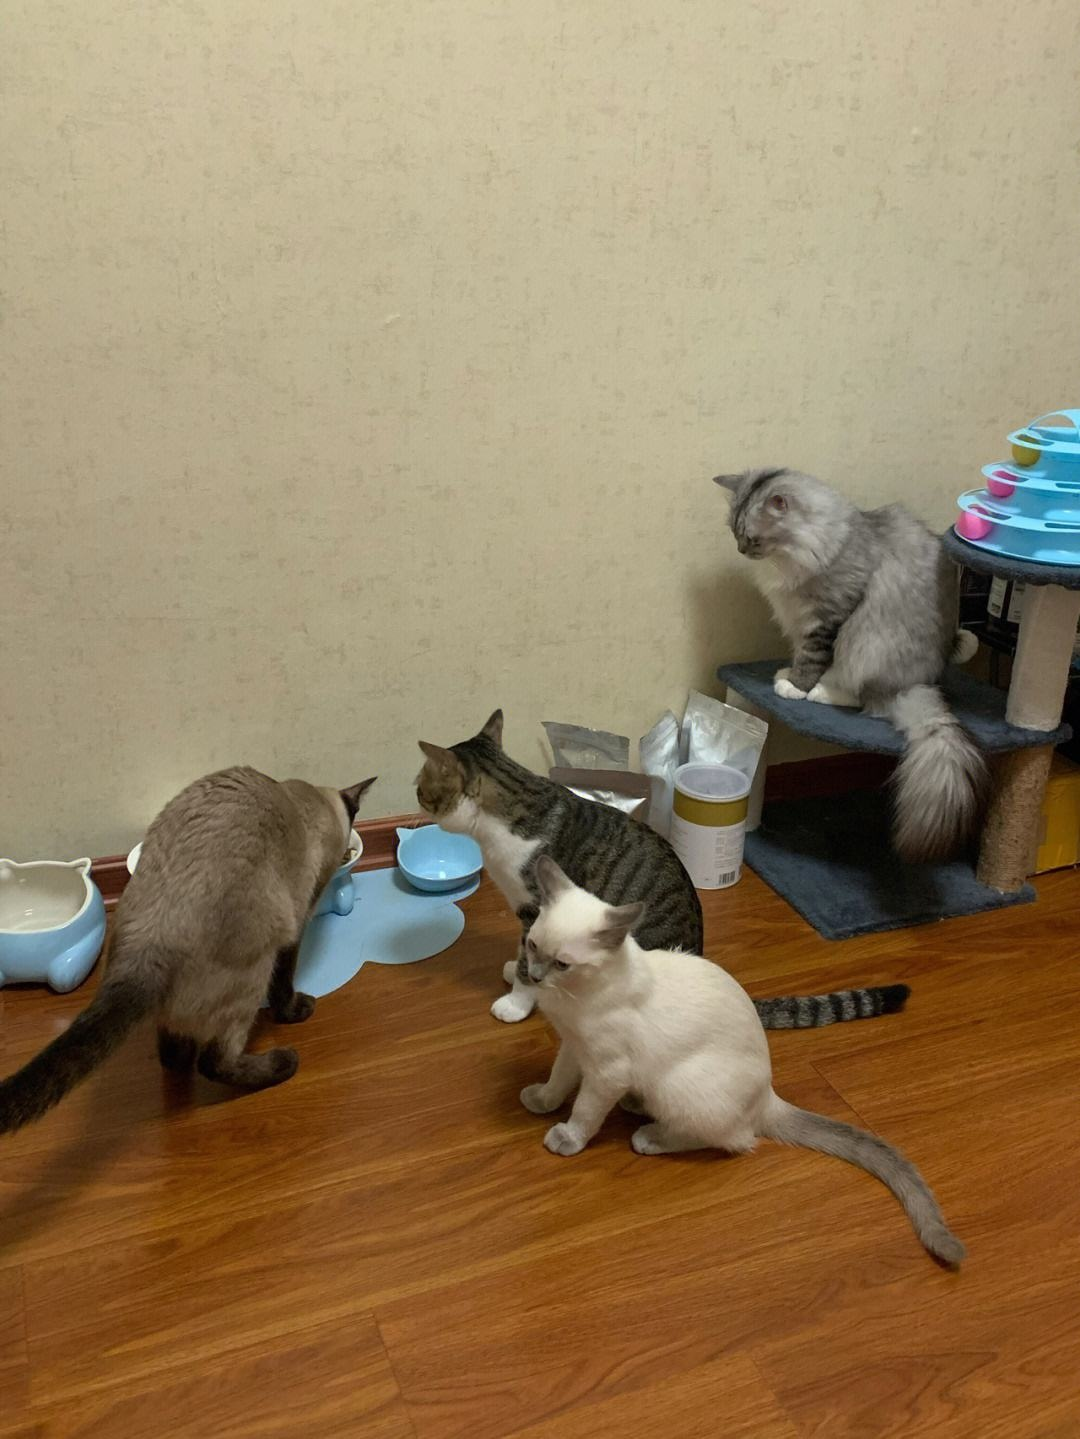cat: (516, 854, 965, 1270), (414, 709, 912, 1029), (1, 762, 376, 1136), (714, 464, 987, 860)
